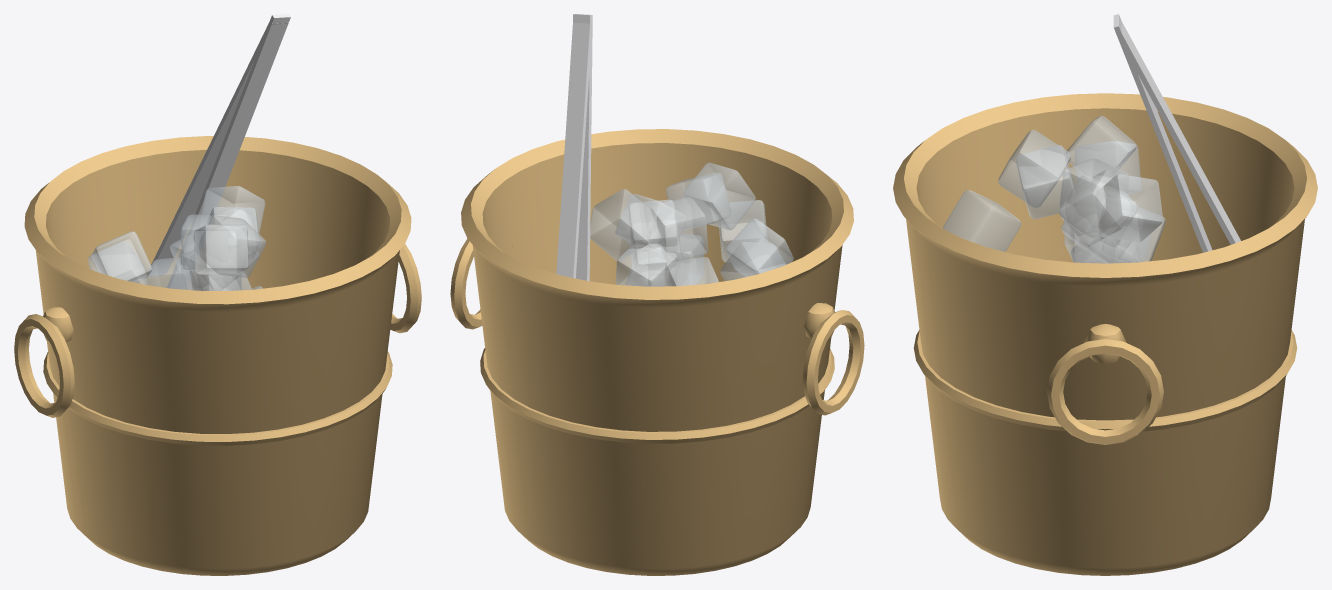
File: KIT_Balde_Gelo.glb
3 renders of one model, left to right at view 1: azimuth 30°, elevation 25°; view 2: azimuth 150°, elevation 25°; view 3: azimuth 270°, elevation 25°, orthographic. The views are drawn at different scales.
Parts seen in each view (by area): view 1: KIT_Balde_Gelo; view 2: KIT_Balde_Gelo; view 3: KIT_Balde_Gelo.
Part boxes in pixels (x1=…): KIT_Balde_Gelo: x1=14, y1=14, x2=421, y2=575; KIT_Balde_Gelo: x1=450, y1=14, x2=864, y2=575; KIT_Balde_Gelo: x1=893, y1=14, x2=1317, y2=575.
Bounding box in the file's own units: 0.2518 × 0.3245 × 0.236.
